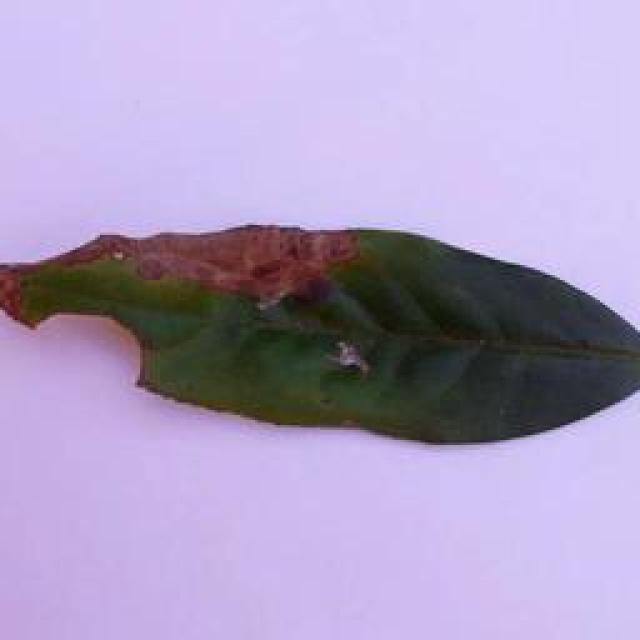Brown Blight: (0, 204, 633, 447)
